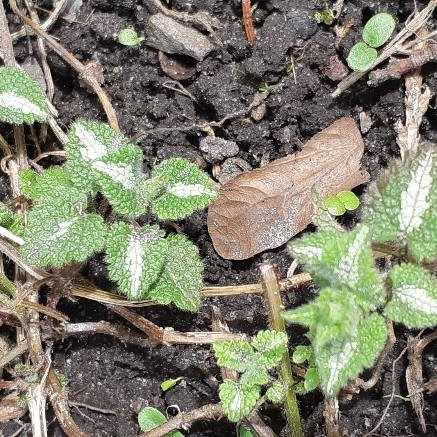obstacle: (41, 117, 223, 307), (302, 173, 424, 388)
